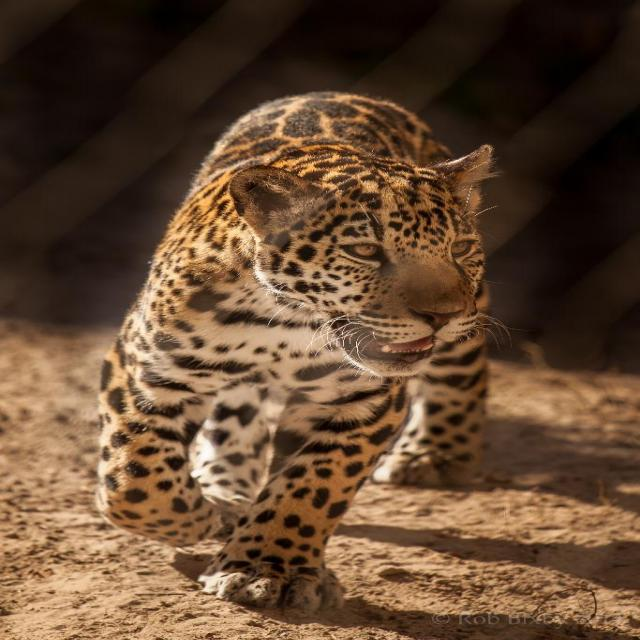Cheetah: (95, 88, 516, 616)
